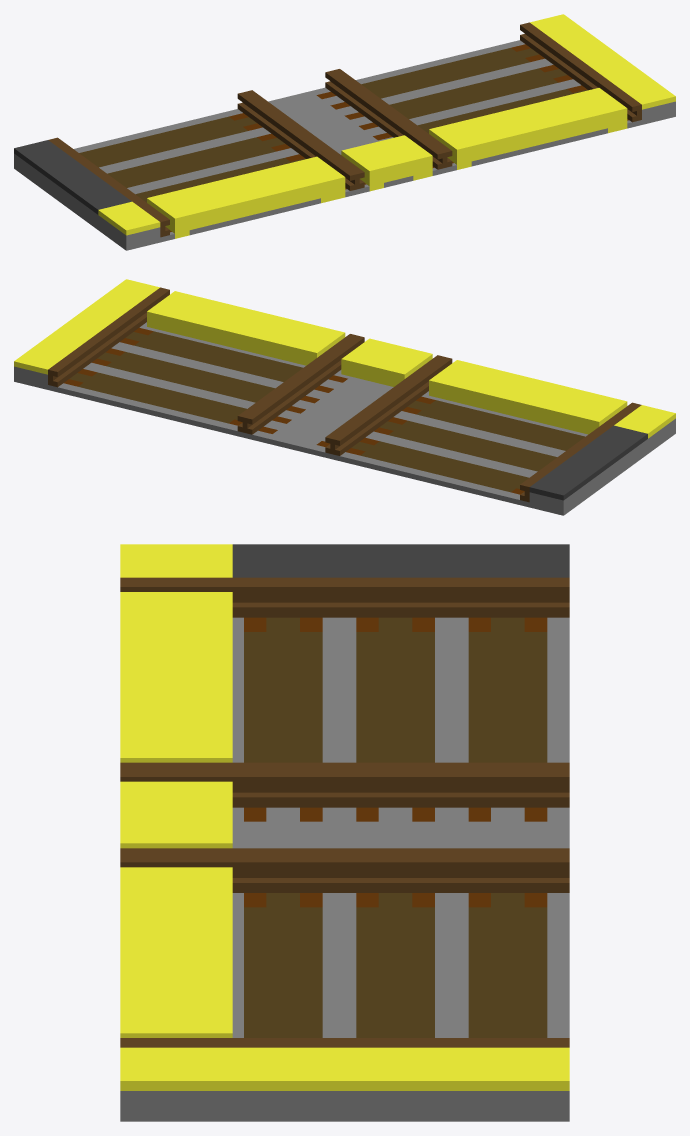
File: Trainvasion Moterman-15-StreetCar track Crosswalk.obj
The picture shows the model from 3 angles, top to bottom: view 1: azimuth 30°, elevation 25°; view 2: azimuth 150°, elevation 25°; view 3: azimuth 270°, elevation 25°; orthographic projection. The views are drawn at different scales.
Parts seen in each view (by area): view 1: StreetCar track Crosswalk; view 2: StreetCar track Crosswalk; view 3: StreetCar track Crosswalk.
Boxes of the visible parts, bbox=[...] form: StreetCar track Crosswalk: bbox=[14, 14, 675, 250]; StreetCar track Crosswalk: bbox=[14, 279, 675, 515]; StreetCar track Crosswalk: bbox=[120, 544, 569, 1121].
Size of the model in its own units: 11.3 by 0.4 by 4.
Materials: 1 (1 with a texture image).
